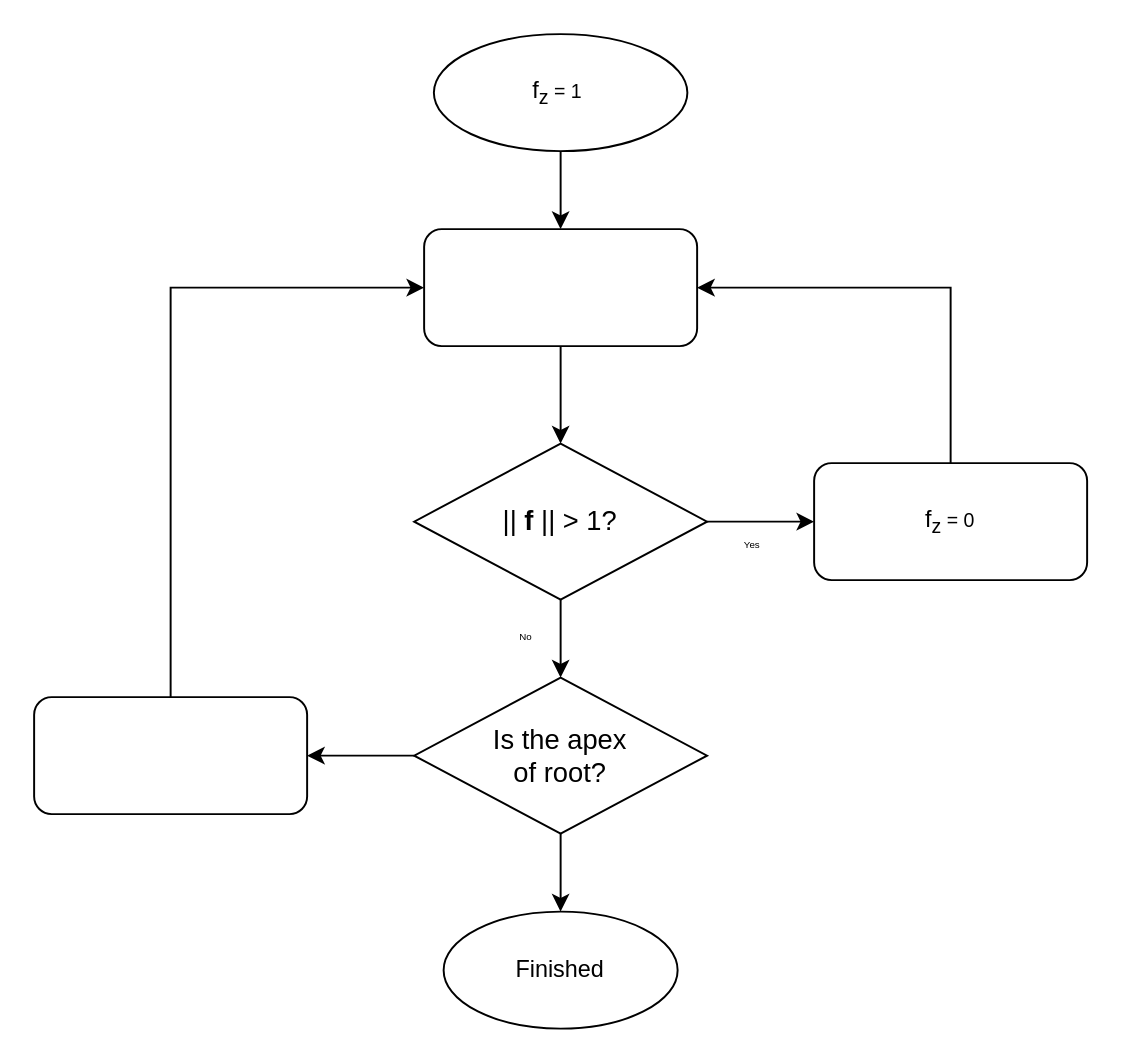
This 1121x1063 diagram has some shape labels left out. The shapes that lost their labels are listed below. From the top down, each one's centre as x and y in pixels, then its label:
At point (559, 286): "Admittance Control f des = [0 0 f z 0 0 0 ]".
At point (169, 754): "Feedrate Control".
